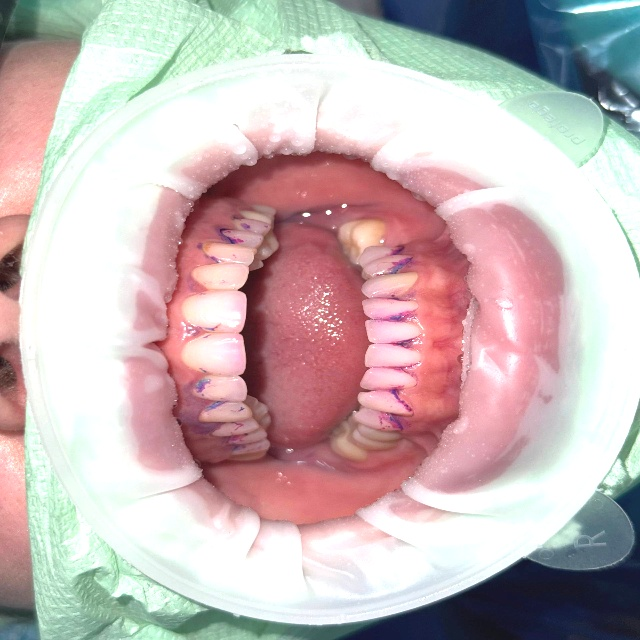clean_tooth: (19, 296, 37, 356)
plaque: (525, 0, 601, 89), (544, 523, 634, 569), (388, 0, 450, 34)
